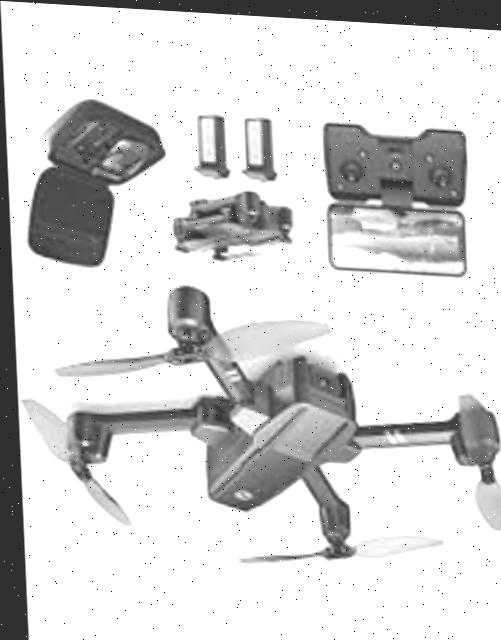drone: (10, 274, 501, 601)
